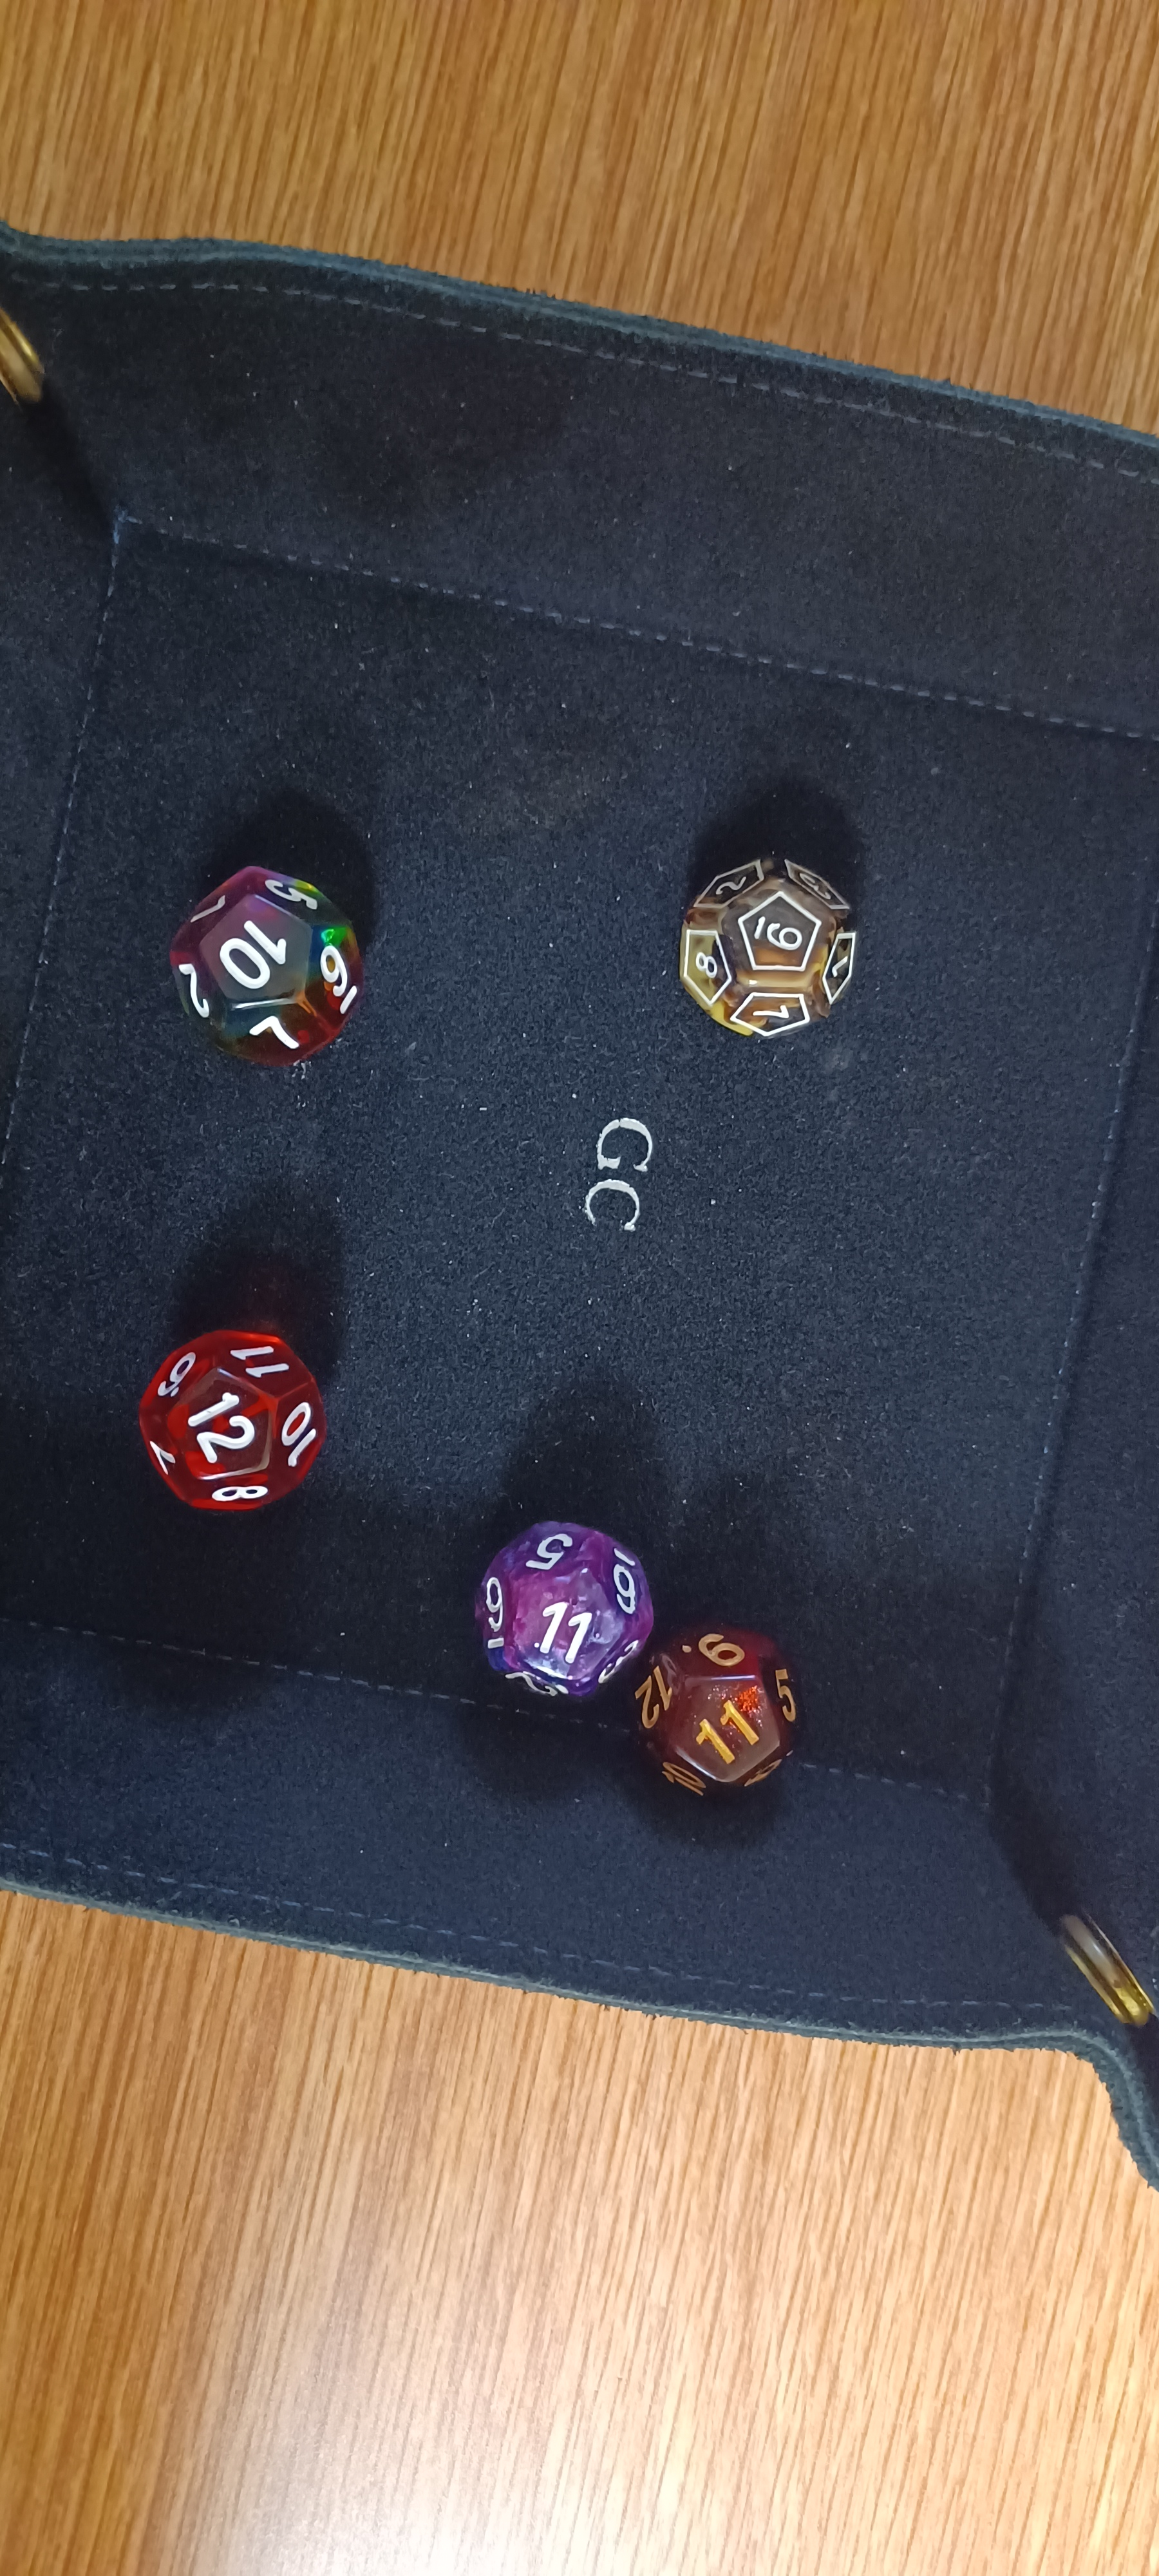eleven: (611, 1621, 832, 1845), (456, 1492, 670, 1715)
nine: (657, 826, 903, 1078)
ten: (126, 831, 396, 1069)
twelve: (102, 1290, 364, 1543)
